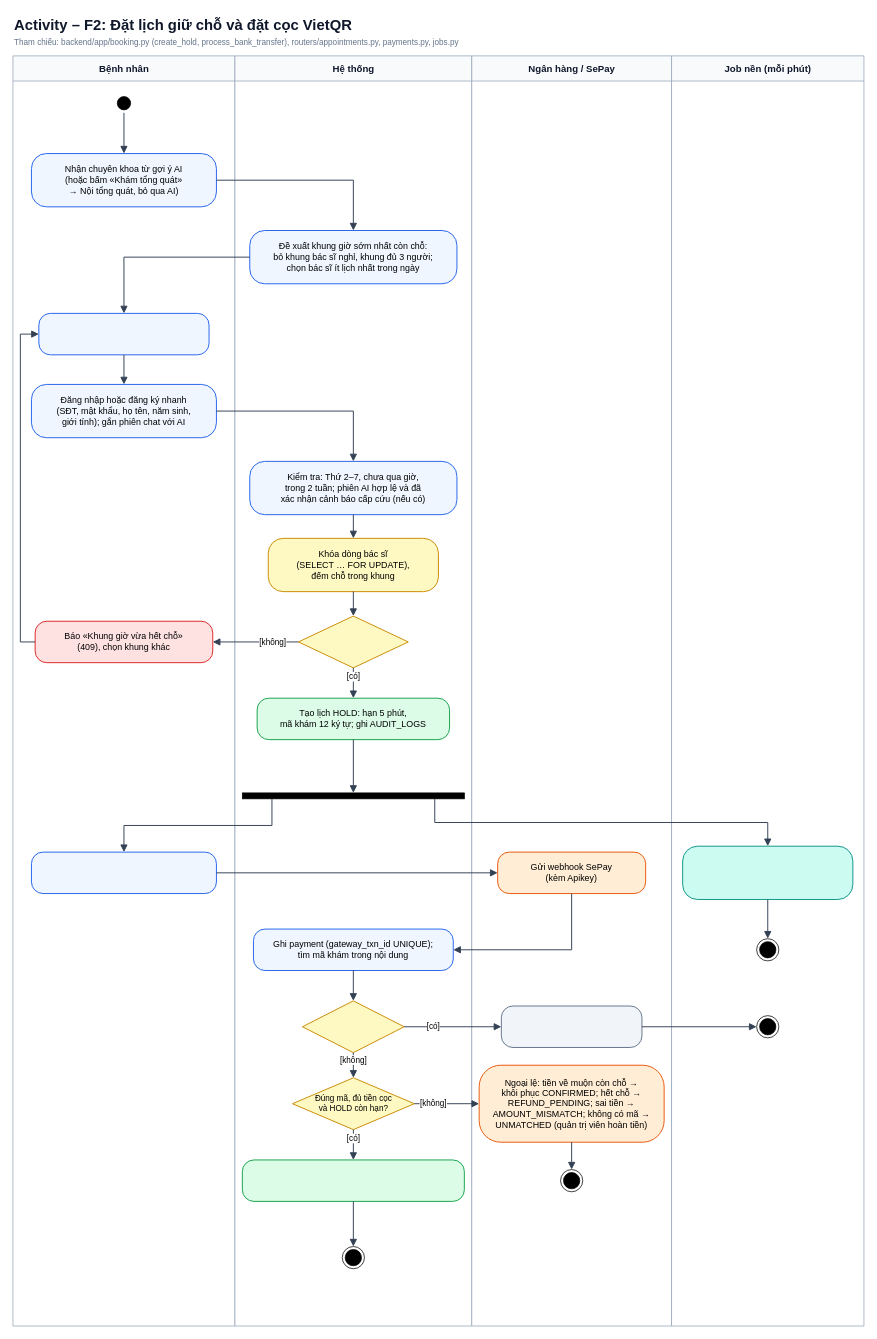
The diagram is 877 pixels wide and 1339 high, and some of its shapes have lost their labels. The centre of each missing label's shape, as x and y in pixels:
Bỏ qua giao dịch, trả 200 (duplicate): the point at 571,1026
Còn chỗ (< 3) và không trùng lịch?: the point at 353,641
HOLD → CONFIRMED; gửi email xác nhận kèm QR check-in; báo realtime: the point at 353,1180
Nếu quá 5 phút chưa nhận cọc: HOLD → EXPIRED (SYSTEM), trả chỗ cho người khác: the point at 767,872
Quét VietQR, chuyển khoản cọc (nội dung = mã khám): the point at 124,872
Trùng gateway_txn_id?: the point at 353,1026
Đồng ý đề xuất hoặc chọn ngày, giờ khác: the point at 123,334
